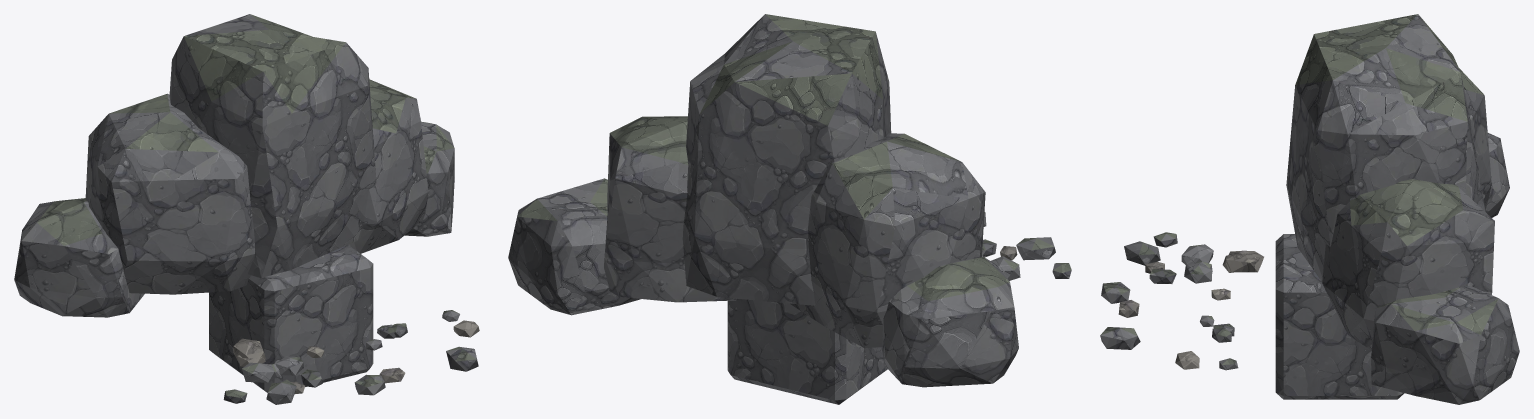
The model's file is resource_stone_quarry_chunk.glb.
3 views of the same model, side by side, from view 1: azimuth 30°, elevation 25°; view 2: azimuth 150°, elevation 25°; view 3: azimuth 270°, elevation 25° (orthographic). The views are drawn at different scales.
Parts seen in each view (by area): view 1: StoneQuarry; view 2: StoneQuarry; view 3: StoneQuarry.
Boxes of the visible parts, box(x1,y1,x2,y2) form: StoneQuarry: box(14, 14, 479, 404); StoneQuarry: box(508, 14, 1071, 404); StoneQuarry: box(1100, 14, 1519, 404).
Size of the model in its own units: 4.1 by 2.79 by 3.24.
3 materials, 3 textured.
